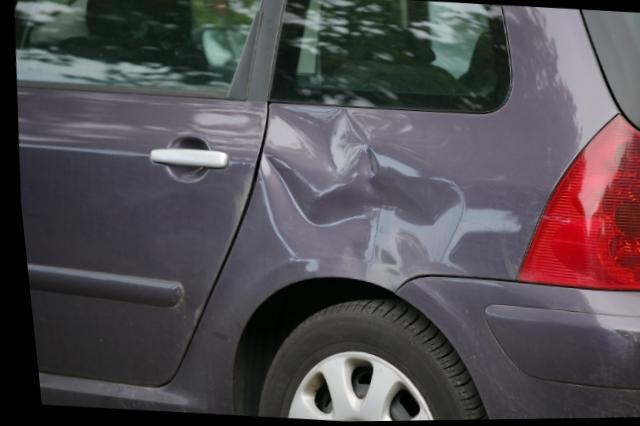dent: (259, 104, 458, 293)
